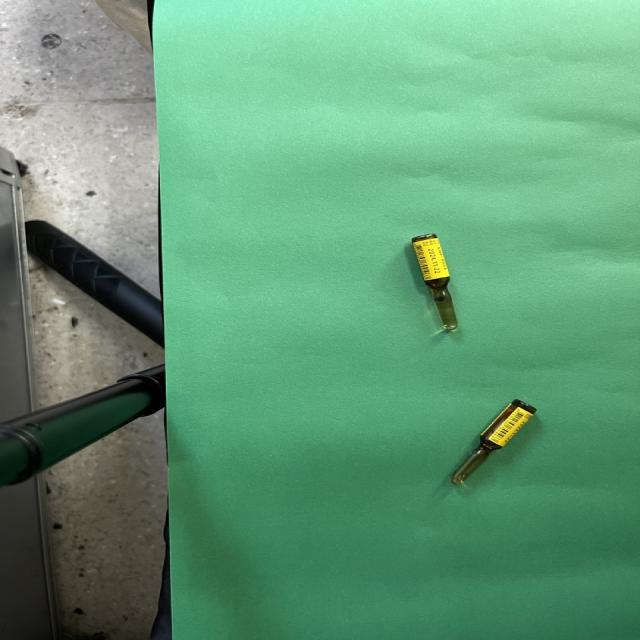Ampoules: (451, 400, 537, 486), (412, 234, 458, 331)
